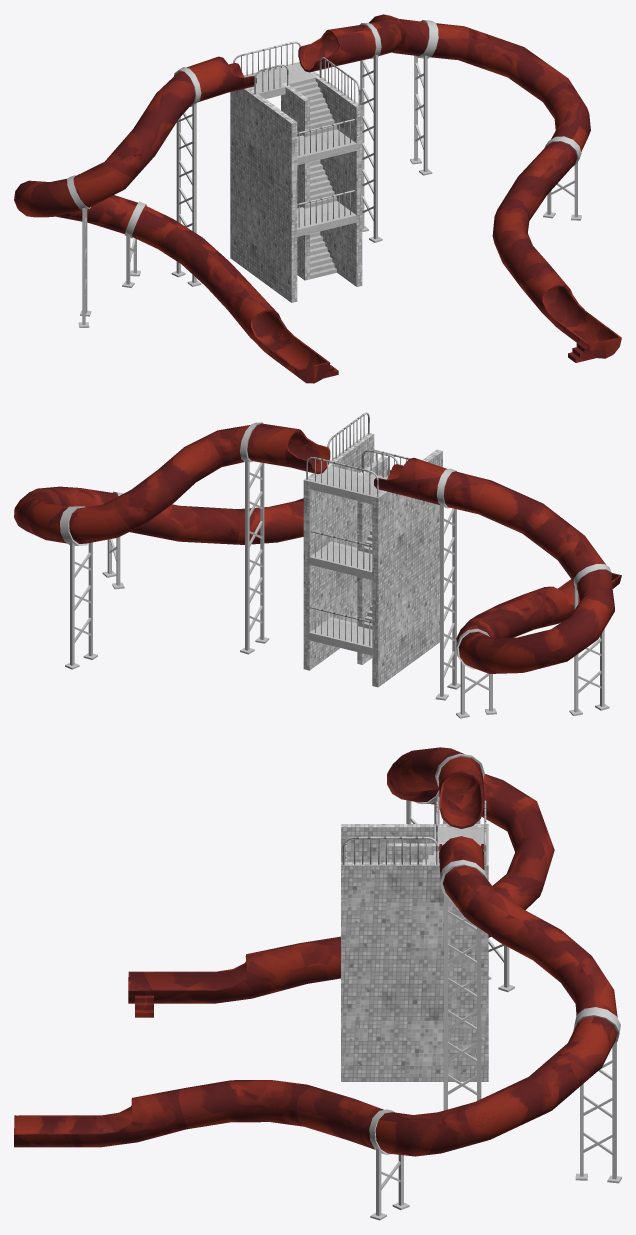
Rendered from ToboganTowerNEW.fbx.
3 views of the same model, one above another, from view 1: azimuth 30°, elevation 25°; view 2: azimuth 150°, elevation 25°; view 3: azimuth 270°, elevation 25° (orthographic). The views are drawn at different scales.
Parts seen in each view (by area): view 1: Tobogan2, Tobogan1, WallSide2, WallSide1, ToboganHolder.003, MiddleWall, ToboganHolder.001, ToboganHolder.004, Floor2, Floor4, Stairs5, FloorTop (+5 smaller); view 2: Tobogan1, Tobogan2, WallSide2, WallSide1, ToboganHolder.003, ToboganHolder.001, ToboganHolder.004, MiddleWall, FloorTop, ToboganHolder, Floor3, Floor1 (+2 smaller); view 3: Tobogan2, WallSide1, Tobogan1, ToboganHolder.003, WallSide2, ToboganHolder.004, ToboganHolder.005, MiddleWall, FloorTop.
Boxes of the visible parts, left/top/right/bottom form: Tobogan2: left=298, top=14, right=621, bottom=358; Tobogan1: left=14, top=56, right=330, bottom=383; WallSide2: left=230, top=87, right=297, bottom=302; WallSide1: left=295, top=62, right=362, bottom=286; ToboganHolder.003: left=360, top=23, right=382, bottom=242; MiddleWall: left=281, top=82, right=309, bottom=280; ToboganHolder.001: left=171, top=67, right=201, bottom=286; ToboganHolder.004: left=410, top=20, right=438, bottom=175; Floor2: left=297, top=201, right=356, bottom=236; Floor4: left=297, top=129, right=356, bottom=165; Stairs5: left=286, top=76, right=336, bottom=135; FloorTop: left=244, top=63, right=312, bottom=98; Tobogan1: left=374, top=457, right=621, bottom=673; Tobogan2: left=14, top=423, right=391, bottom=544; WallSide2: left=372, top=449, right=442, bottom=687; WallSide1: left=303, top=433, right=374, bottom=670; ToboganHolder.003: left=240, top=422, right=269, bottom=654; ToboganHolder.001: left=435, top=468, right=460, bottom=700; ToboganHolder.004: left=60, top=506, right=97, bottom=669; MiddleWall: left=357, top=456, right=387, bottom=664; FloorTop: left=309, top=467, right=387, bottom=504; ToboganHolder: left=569, top=564, right=611, bottom=715; Floor3: left=309, top=543, right=372, bottom=579; Floor1: left=309, top=619, right=372, bottom=655; Tobogan2: left=14, top=836, right=617, bottom=1156; WallSide1: left=341, top=862, right=488, bottom=1081; Tobogan1: left=128, top=747, right=554, bottom=1003; ToboganHolder.003: left=439, top=859, right=487, bottom=1111; WallSide2: left=341, top=824, right=488, bottom=862; ToboganHolder.004: left=573, top=1007, right=621, bottom=1183; ToboganHolder.005: left=369, top=1109, right=409, bottom=1220; MiddleWall: left=388, top=843, right=444, bottom=862; FloorTop: left=434, top=827, right=488, bottom=862.
Bounding box in the file's own units: 2402 × 1911 × 892.
